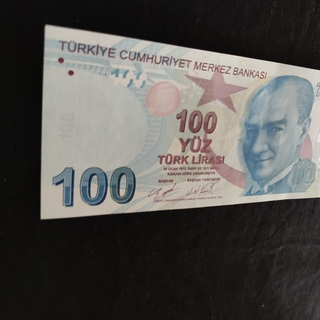100TLFront: (38, 23, 320, 220)
